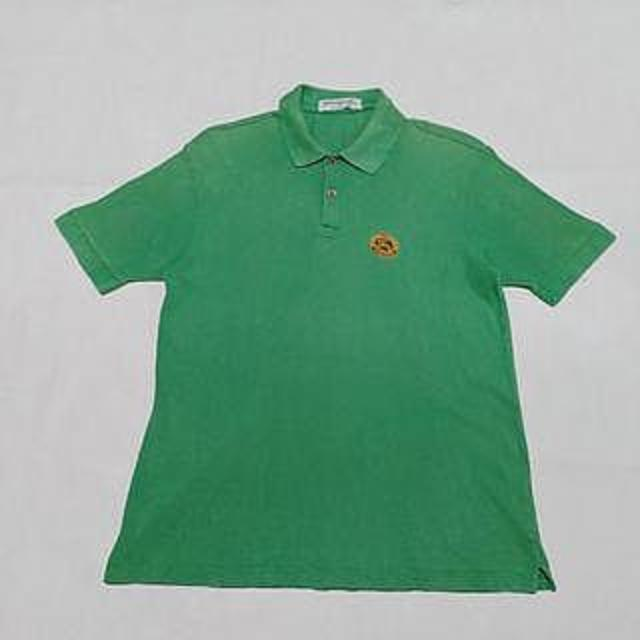T_SHIRT: (39, 74, 622, 600)
